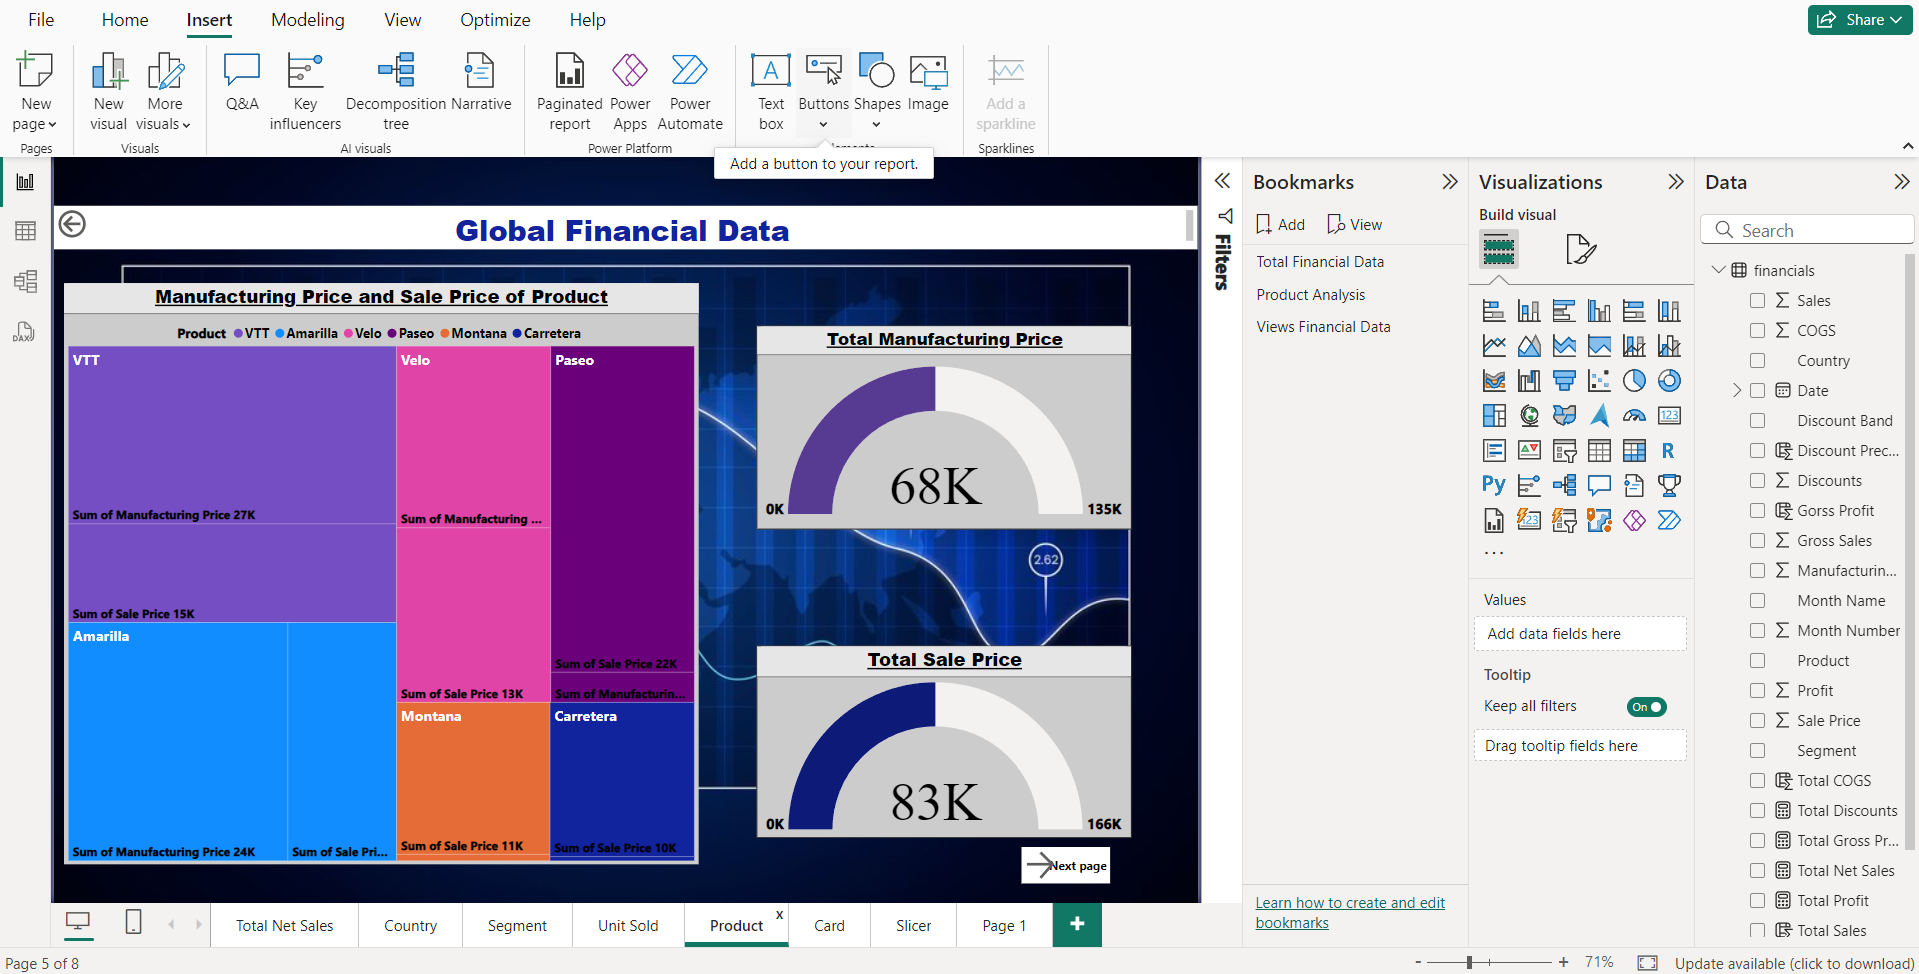

The dashboard page shown, as its layout file describes it:
{"tool":"powerbi","page":{"name":"Product","canvas":[1280,835],"ordinal":4},"visuals":[{"type":"textbox","box":[0,54.6,1280.2,49],"z":1},{"type":"treemap","title":" Manufacturing Price and Sale Price of Product","fields":{"Group":["financials.Product"],"Values":["Sum(financials.Manufacturing Price)","Sum(financials.Sale Price)"]},"box":[11.2,141.3,710.8,650.6],"z":2},{"type":"gauge","title":"Total Manufacturing Price","fields":{"Y":["Sum(financials.Manufacturing Price)"]},"box":[786.3,188.9,419.7,228.1],"z":3},{"type":"gauge","title":"Total Sale Price","fields":{"Y":["Sum(financials.Sale Price)"]},"box":[786.3,547.1,419.7,215.5],"z":4},{"type":"actionButton","box":[1082.9,772.3,99.3,40.6],"z":5},{"type":"actionButton","box":[0,54.6,99.3,40.6],"z":6}]}

Visuals, with their boxes on the page's 1280x835 design canvas (x1, y1, x2, y2). These are canvas units, not pixel positions in the 1919x974 screenshot, which may show the page scaled, cropped or inside an application window:
textbox: (0,55,1280,104)
" Manufacturing Price and Sale Price of Product" treemap: (11,141,722,792)
"Total Manufacturing Price" gauge: (786,189,1206,417)
"Total Sale Price" gauge: (786,547,1206,763)
actionButton: (1083,772,1182,813)
actionButton: (0,55,99,95)
